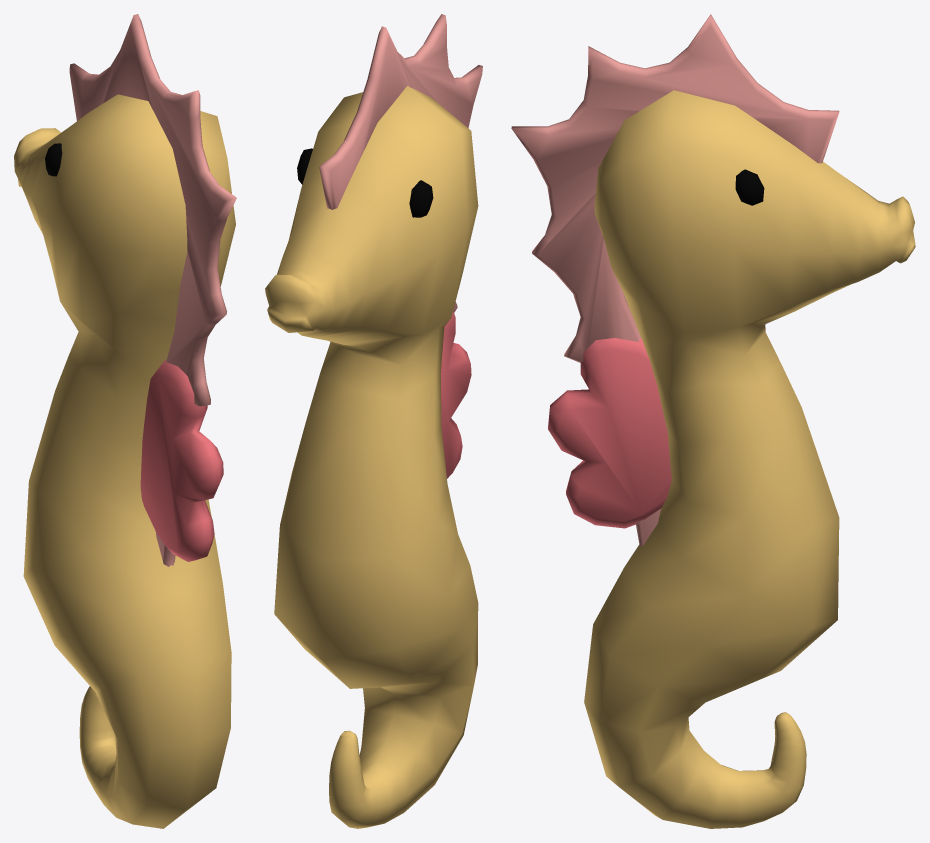
The model's file is seahorse.fbx.
3 views of the same model, side by side, from view 1: azimuth 30°, elevation 25°; view 2: azimuth 150°, elevation 25°; view 3: azimuth 270°, elevation 25° (orthographic). The views are drawn at different scales.
Parts seen in each view (by area): view 1: Plane; view 2: Plane; view 3: Plane.
Boxes of the visible parts, x1=… form: Plane: x1=14, y1=14, x2=236, y2=828; Plane: x1=265, y1=14, x2=482, y2=828; Plane: x1=511, y1=14, x2=915, y2=828.
Bounding box in the file's own units: 29.22 × 133 × 60.01.
